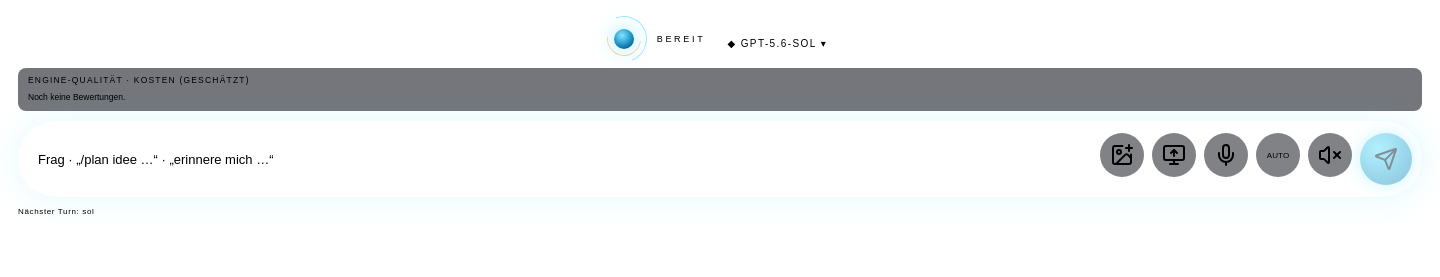
Test: JarvisChat (LIVE-Kontrakt /api/pa/*, Payload-Shapes aus test_pa_chat.py) › Message-POST-Fehler → Composer-Fehlerzeile (role=alert), kein stiller Fehler
Type "was ist offen?" into the field named "Nachricht an Jarvis" at [564, 159], box [38,137,1090,181]
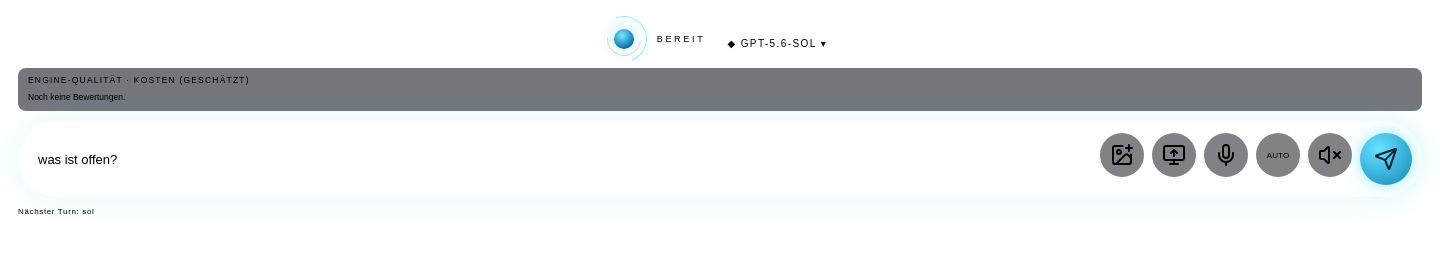
Click the button named "Nachricht senden" at [1386, 159], box [1360,133,1412,185]
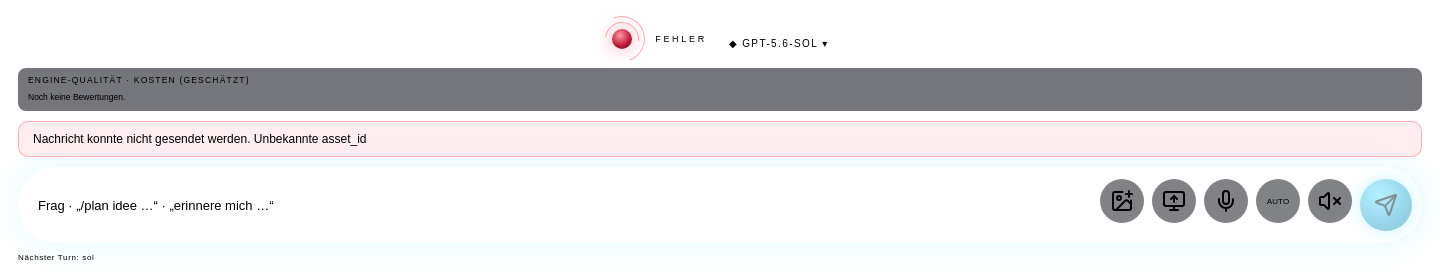
Expected: the message shows "Nachricht konnte nicht gesendet werden.", [33,132,366,146]
Expected: the message shows "Unbekannte asset_id", [33,132,366,146]
